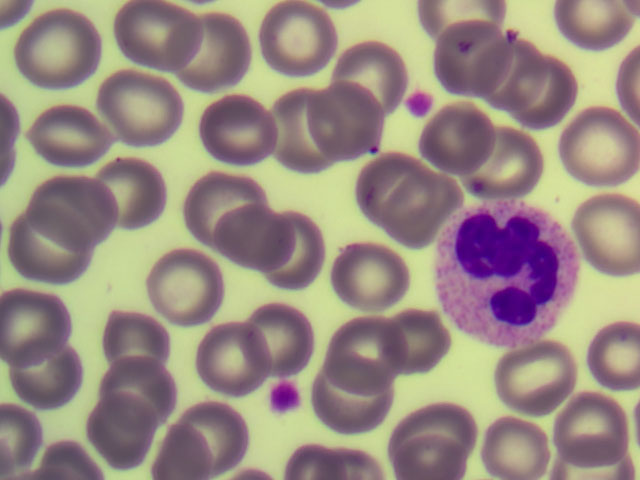Platelets: (270, 386, 298, 411), (407, 91, 433, 116)
RBC: (162, 13, 251, 91), (266, 89, 342, 178), (27, 177, 117, 251), (16, 13, 100, 90), (10, 207, 93, 282), (187, 174, 272, 246), (459, 124, 544, 196), (146, 254, 225, 331), (311, 354, 390, 431), (309, 84, 384, 164), (100, 71, 182, 144), (489, 339, 575, 408), (433, 21, 508, 100), (91, 154, 169, 229), (114, 4, 201, 71), (324, 320, 405, 391), (194, 318, 267, 396), (241, 304, 315, 380), (335, 41, 406, 119), (562, 112, 640, 183), (200, 95, 280, 164), (476, 35, 549, 109), (265, 208, 327, 294), (8, 334, 81, 407), (177, 402, 250, 475), (218, 205, 297, 272), (556, 393, 627, 467), (331, 244, 409, 311), (576, 197, 640, 278), (393, 400, 477, 461), (103, 309, 171, 382), (1, 294, 71, 364), (503, 58, 573, 127), (360, 155, 430, 224), (98, 364, 174, 426), (392, 168, 454, 244), (385, 309, 451, 380), (90, 395, 157, 463), (29, 110, 111, 165), (262, 7, 331, 72), (427, 108, 494, 174), (484, 417, 551, 480), (554, 1, 635, 53), (589, 320, 640, 393), (390, 434, 462, 480), (419, 1, 508, 34), (158, 427, 210, 479), (1, 402, 39, 470), (281, 442, 348, 480), (40, 438, 97, 480), (612, 46, 640, 124)
WBC: (435, 204, 578, 344)
